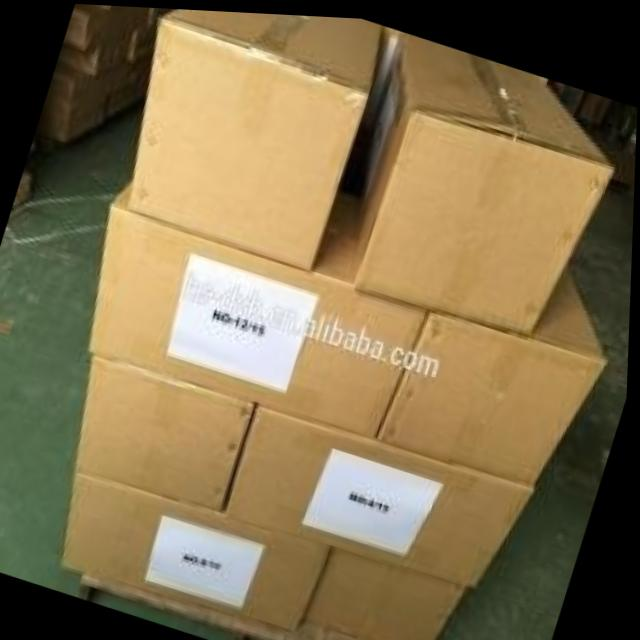box: (89, 180, 430, 436), (354, 26, 618, 331), (128, 7, 383, 267), (227, 402, 536, 584), (380, 259, 609, 482), (62, 473, 335, 630), (76, 354, 256, 510), (307, 544, 470, 640), (355, 21, 399, 145)
